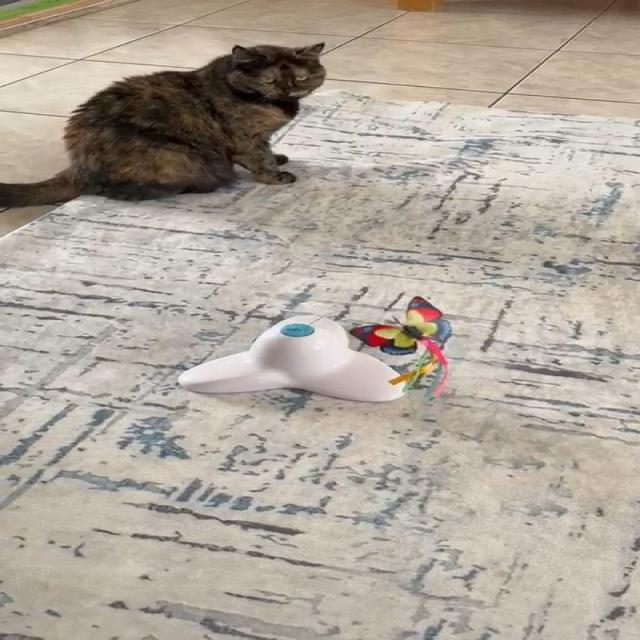authorized: (0, 41, 327, 208)
